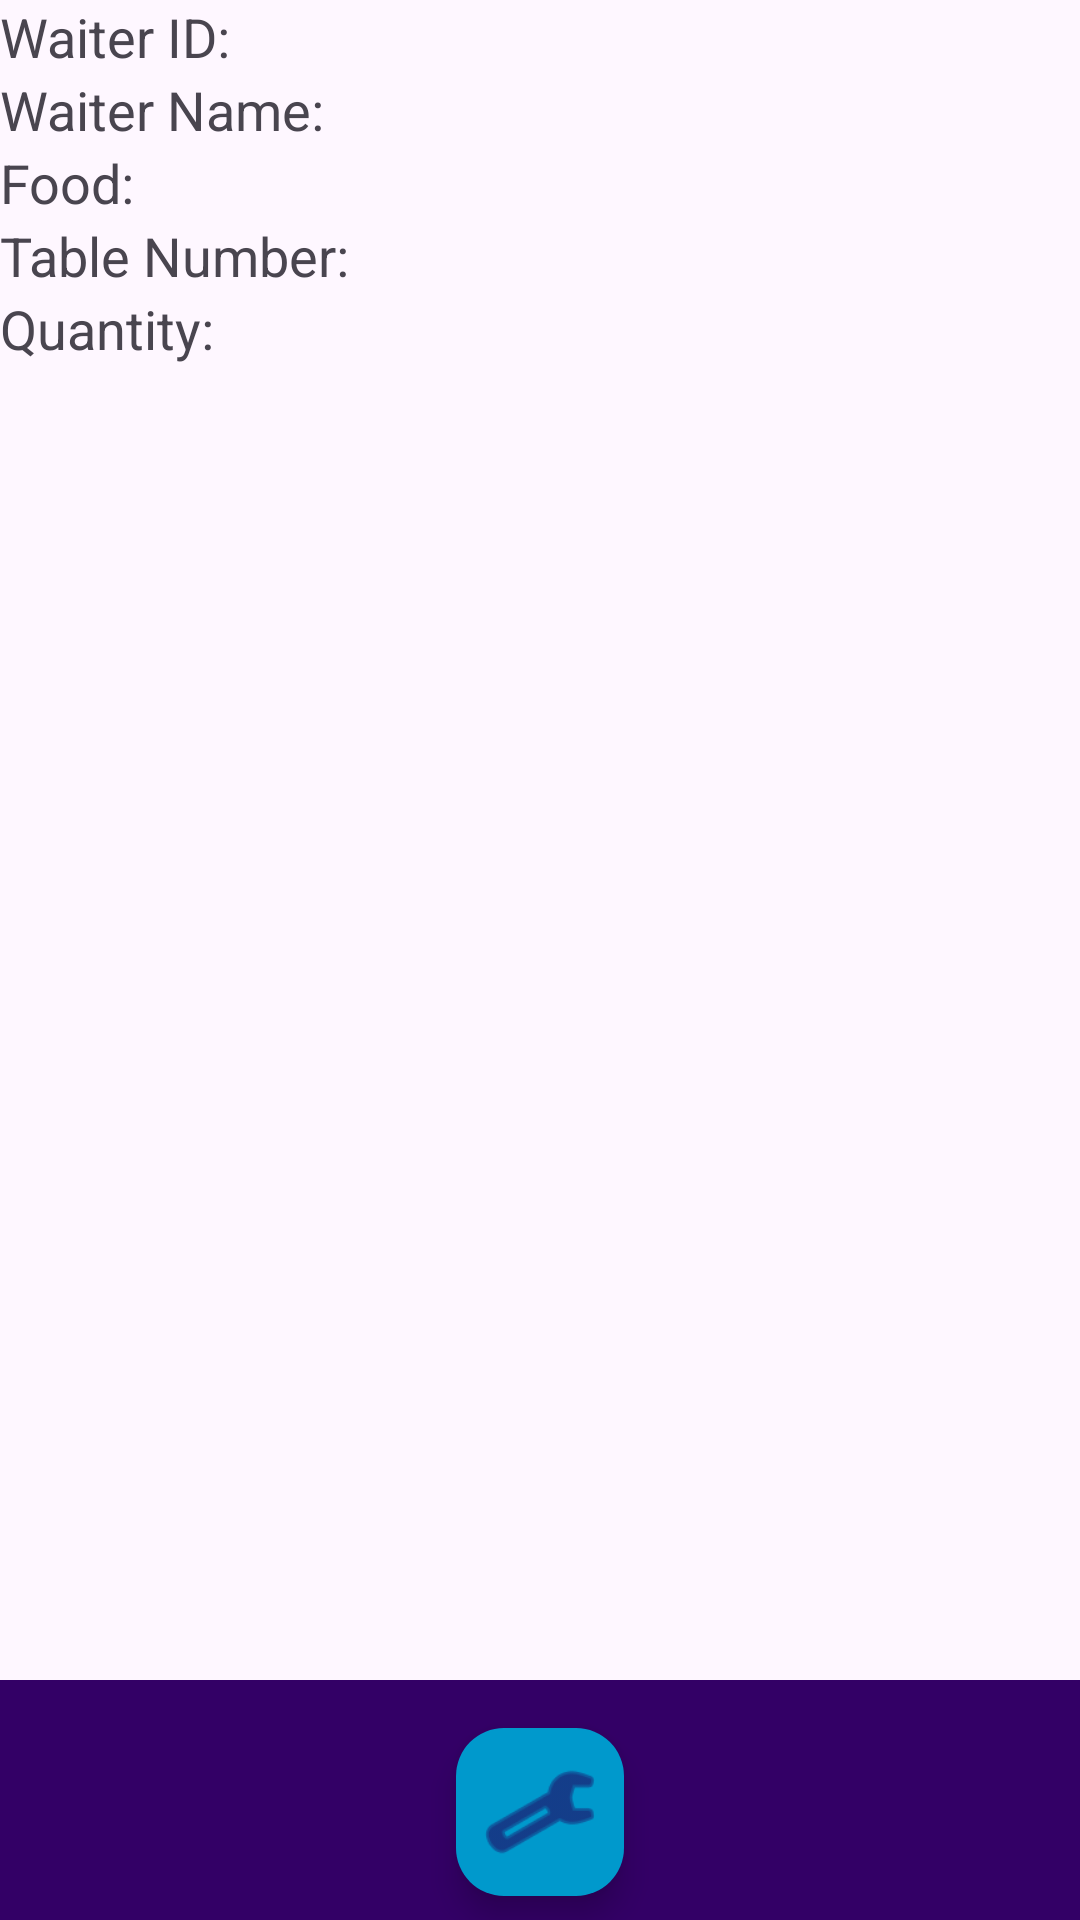

Icon bounding boxes for this 1080*1920 phone screenshot, format (x1, y1, x2, y2):
manage: (456, 1728, 624, 1896)
